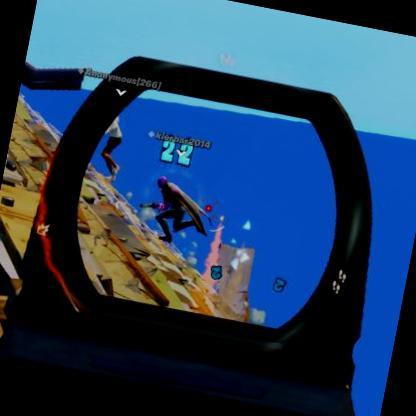person: (139, 174, 203, 247), (99, 122, 130, 176)
